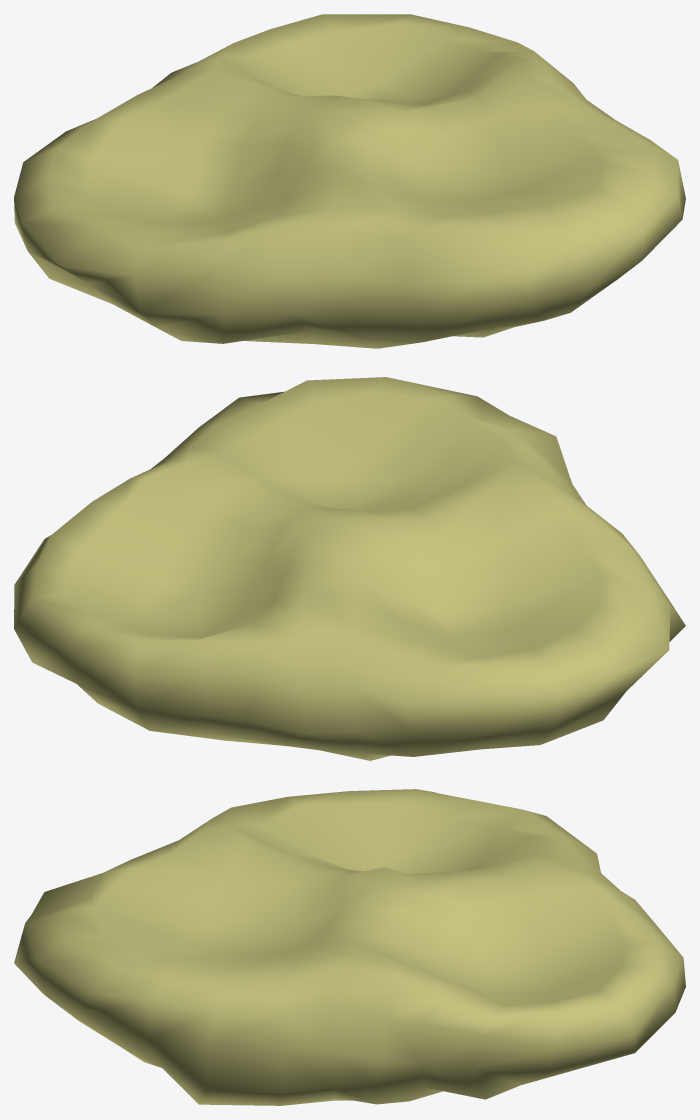
The model's file is coral05.fbx.
The picture shows the model from 3 angles, top to bottom: view 1: azimuth 30°, elevation 25°; view 2: azimuth 150°, elevation 25°; view 3: azimuth 270°, elevation 25°; orthographic projection. The views are drawn at different scales.
Visible parts, largest first — view 1: coral20; view 2: coral20; view 3: coral20.
Part boxes in pixels (left/top/right/bottom): coral20: left=14, top=14, right=685, bottom=348; coral20: left=14, top=377, right=685, bottom=760; coral20: left=14, top=789, right=685, bottom=1105.
Size of the model in its own units: 337 by 98.99 by 363.
